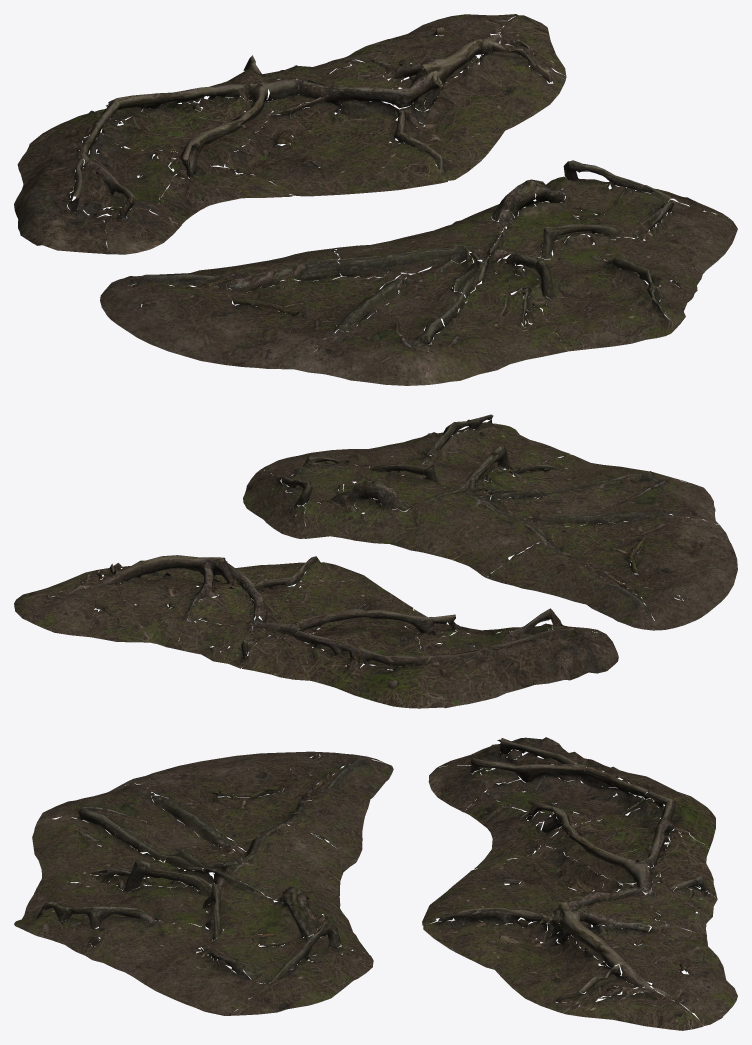
Rendered from pine_roots.glb.
3 views of the same model, one above another, from view 1: azimuth 30°, elevation 25°; view 2: azimuth 150°, elevation 25°; view 3: azimuth 270°, elevation 25° (orthographic). The views are drawn at different scales.
Visible parts, largest first — view 1: pine_roots_b, pine_roots_a; view 2: pine_roots_b, pine_roots_a; view 3: pine_roots_b, pine_roots_a.
Boxes of the visible parts, box(x1,y1,x2,y2) form: pine_roots_b: box(100, 160, 737, 385); pine_roots_a: box(14, 14, 566, 254); pine_roots_b: box(243, 414, 737, 630); pine_roots_a: box(14, 555, 618, 708); pine_roots_b: box(14, 751, 393, 1015); pine_roots_a: box(422, 737, 737, 1030).
Size of the model in its own units: 1.77 by 0.1538 by 1.89.
Materials: 2 (2 with a texture image).
